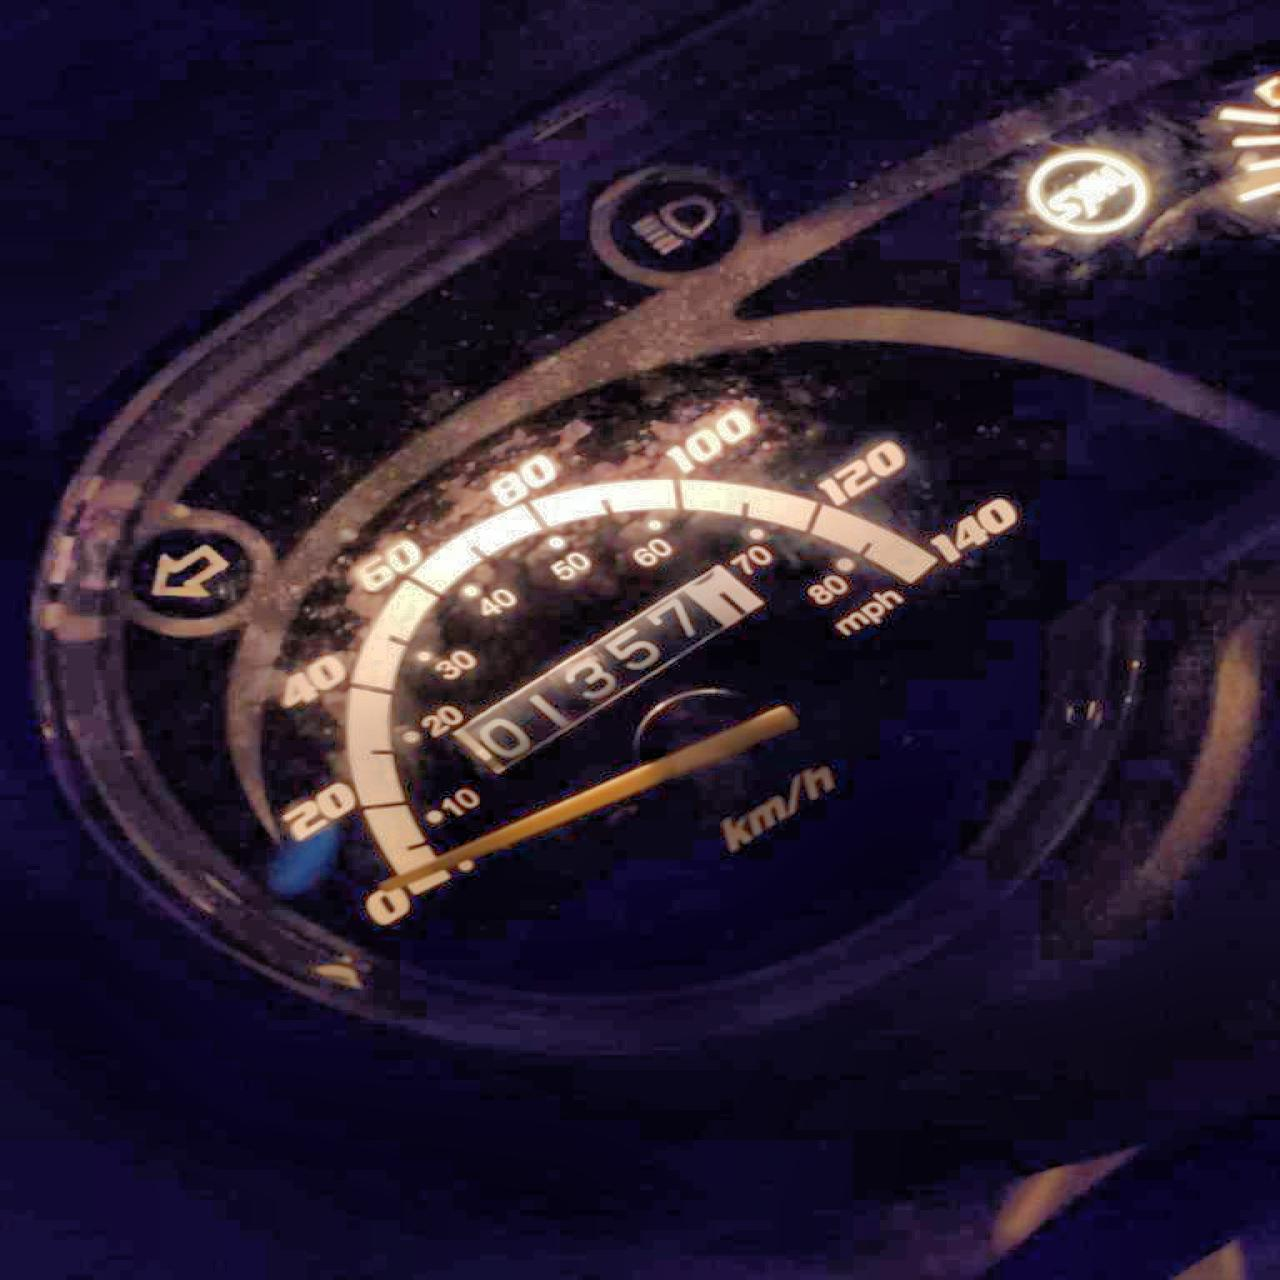0: (477, 716, 531, 758), (435, 704, 463, 726), (448, 649, 477, 669), (490, 587, 517, 606)
1: (526, 693, 568, 729), (715, 590, 751, 619)
3: (564, 659, 614, 699)
4: (478, 595, 502, 617)
5: (604, 626, 660, 669), (549, 559, 574, 580)
7: (645, 598, 695, 638)
odometer: (447, 561, 763, 777)
